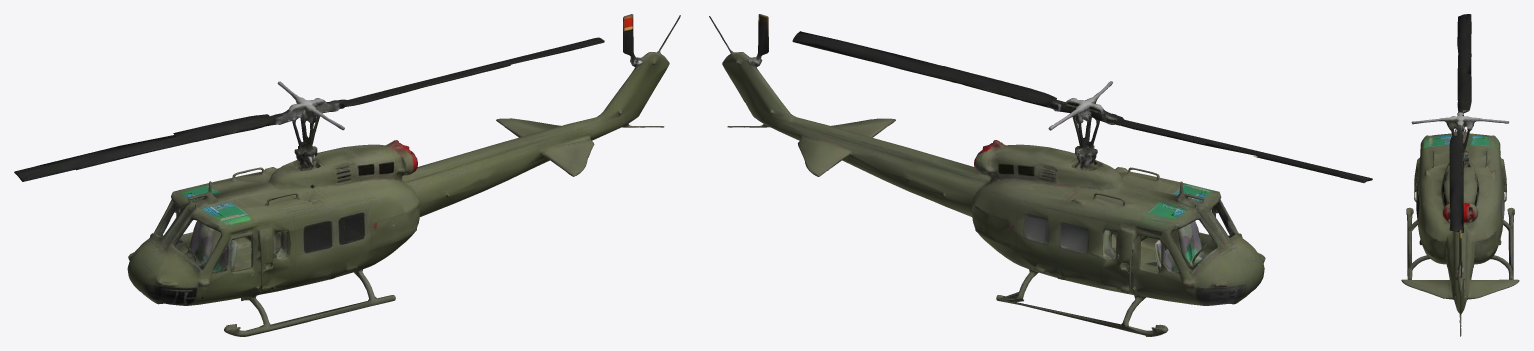
Rendered from heli.glb.
3 renders of one model, left to right at view 1: azimuth 30°, elevation 25°; view 2: azimuth 150°, elevation 25°; view 3: azimuth 270°, elevation 25°, orthographic. The views are drawn at different scales.
Parts seen in each view (by area): view 1: Mesh_0; view 2: Mesh_0; view 3: Mesh_0.
Part boxes in pixels (x1,y1,x2,y2): Mesh_0: (14,14,680,336); Mesh_0: (709,14,1372,336); Mesh_0: (1401,14,1519,336).
Bounding box in the file's own units: 1.9 × 0.5373 × 0.384.
1 material, 1 textured.
